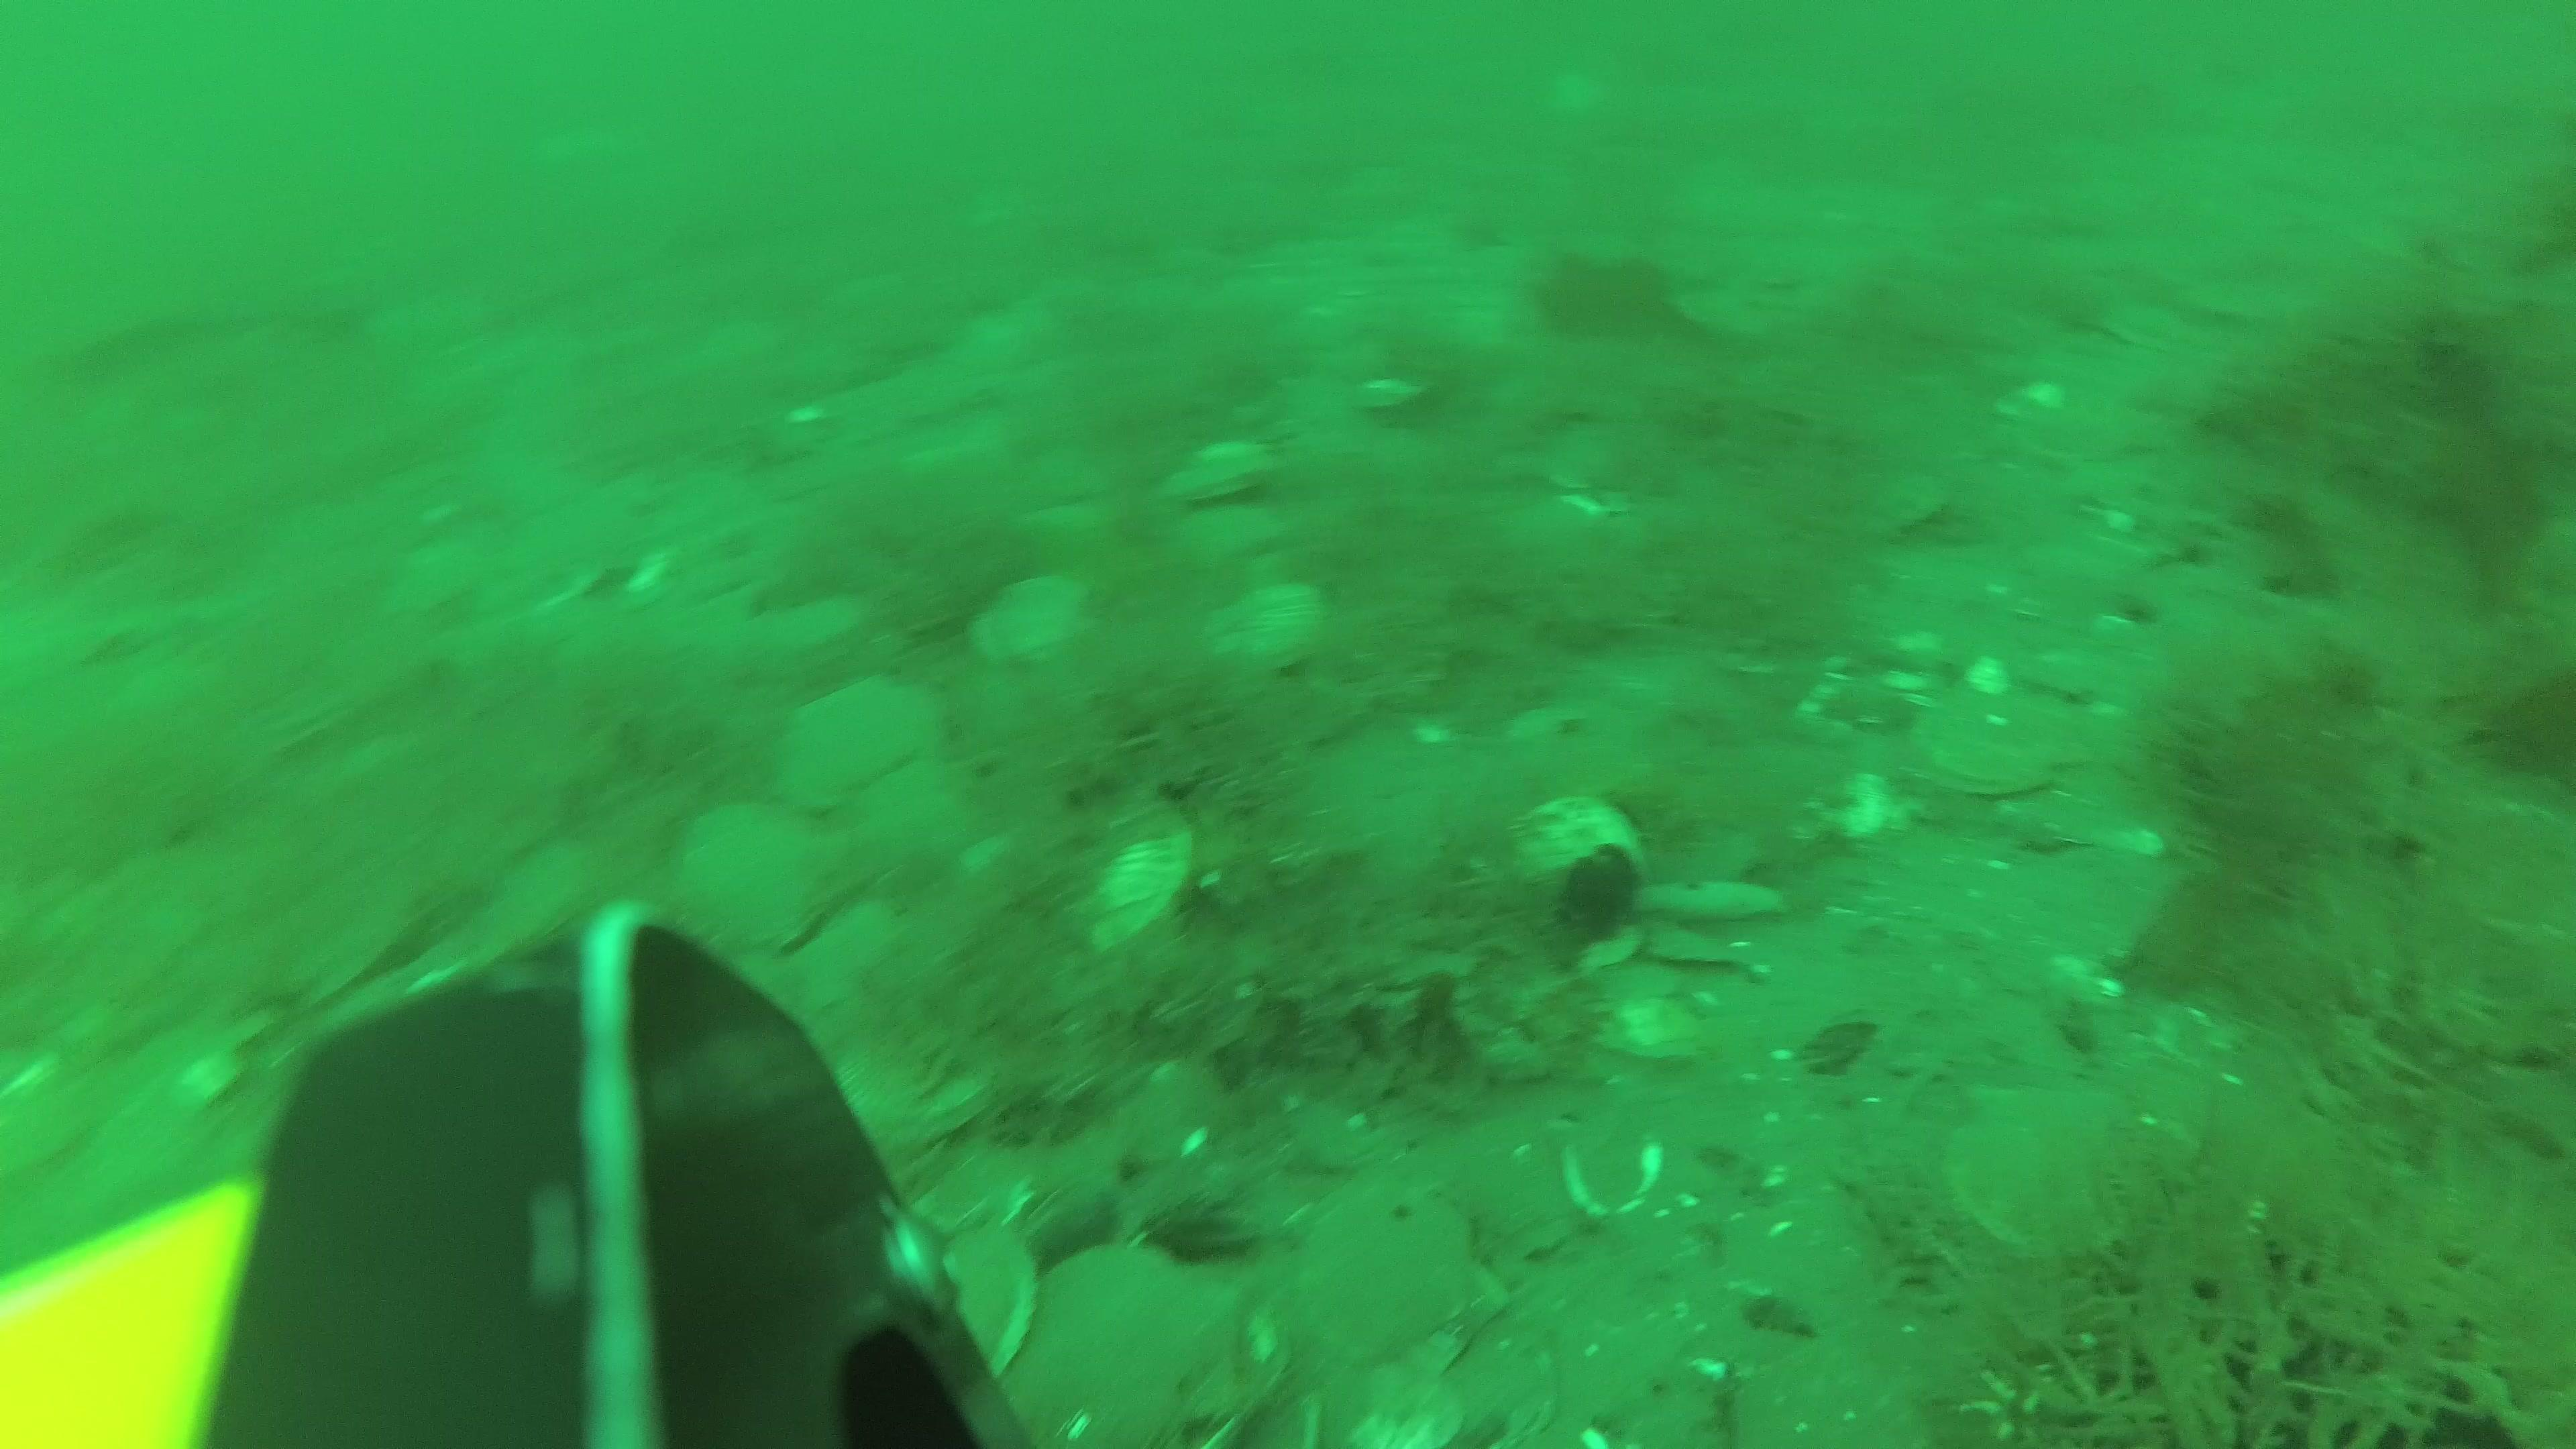scallop: (1016, 1237, 1240, 1449), (1948, 1081, 2166, 1267), (1299, 1175, 1490, 1362), (782, 678, 966, 801), (694, 791, 835, 947), (1067, 794, 1198, 947), (846, 1023, 996, 1154), (934, 1217, 1042, 1378), (1913, 699, 2047, 810), (1215, 575, 1327, 678), (980, 571, 1093, 671), (1169, 506, 1283, 580), (1164, 444, 1269, 518)
